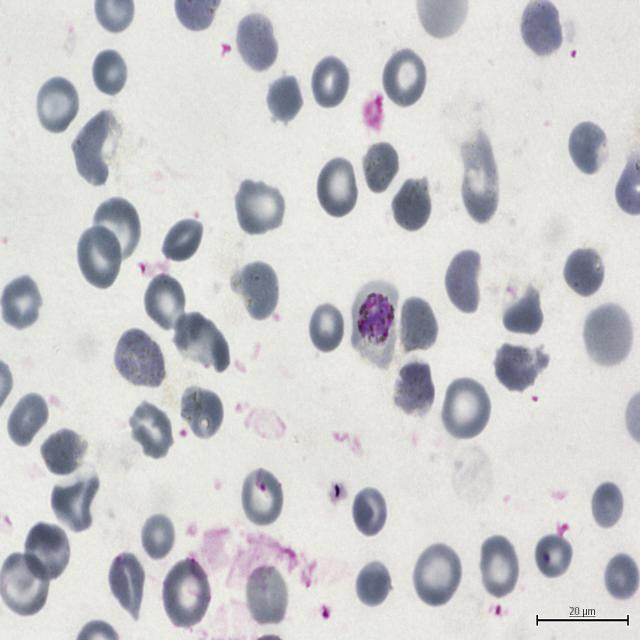red blood cell: (160, 557, 212, 632), (462, 133, 502, 225), (0, 548, 51, 618), (70, 113, 118, 187), (412, 541, 463, 609), (582, 302, 634, 368), (90, 196, 142, 261), (440, 377, 491, 442), (76, 224, 123, 291), (22, 520, 71, 584), (114, 331, 167, 390), (234, 177, 286, 237), (50, 472, 100, 534), (476, 534, 522, 601), (176, 310, 228, 369), (238, 467, 285, 531), (244, 562, 290, 627), (314, 156, 360, 220), (382, 46, 428, 109), (34, 74, 80, 136), (444, 246, 485, 315), (234, 10, 278, 74), (128, 399, 174, 460), (107, 550, 147, 620), (519, 0, 566, 59), (492, 340, 542, 395), (143, 272, 188, 333), (38, 426, 87, 479), (6, 389, 50, 448), (391, 359, 435, 418), (390, 174, 433, 233), (561, 245, 606, 300), (567, 118, 609, 176), (0, 274, 42, 332), (179, 386, 225, 438), (236, 264, 279, 318), (398, 299, 438, 357), (310, 54, 350, 110), (361, 139, 400, 196), (306, 300, 346, 354), (532, 530, 574, 581), (350, 484, 389, 538), (602, 548, 640, 603), (90, 48, 130, 99), (160, 217, 203, 264), (138, 510, 176, 562), (354, 561, 395, 609), (589, 479, 626, 532), (501, 290, 543, 336), (262, 76, 303, 121)
schizont: (350, 280, 400, 366)
